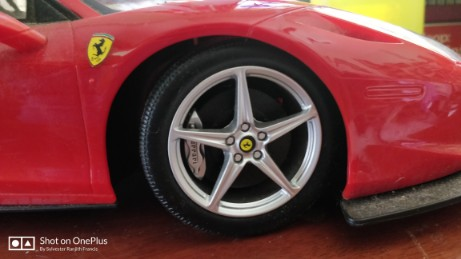unaligned_wheel: (129, 45, 347, 238)
